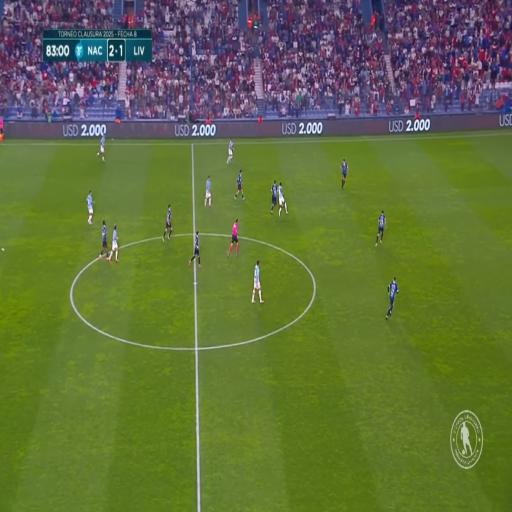Player: (386, 280, 398, 316), (203, 174, 214, 210), (375, 210, 387, 243), (253, 256, 262, 299), (191, 230, 201, 268), (164, 201, 173, 237), (340, 154, 349, 190), (100, 219, 108, 256), (87, 184, 94, 226), (111, 221, 118, 263), (226, 137, 235, 168), (236, 168, 244, 200), (278, 181, 286, 212), (99, 132, 105, 164), (272, 179, 276, 214)
Referee: (228, 217, 240, 259)
